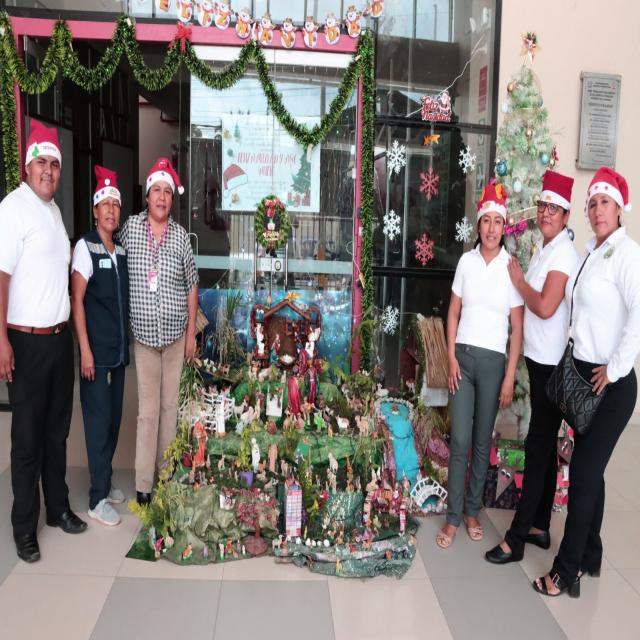gun: (0, 118, 84, 538), (573, 148, 640, 602), (440, 158, 523, 518), (516, 158, 584, 578), (123, 140, 192, 474), (71, 152, 129, 518)
